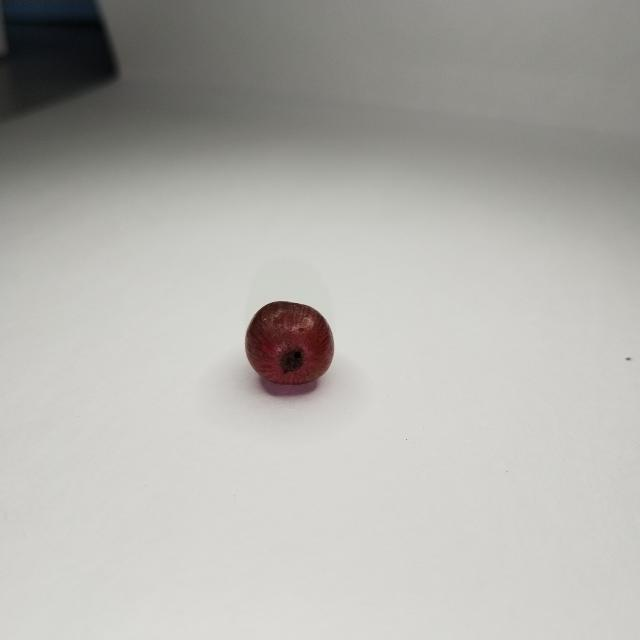Infectado: (246, 303, 333, 387)
